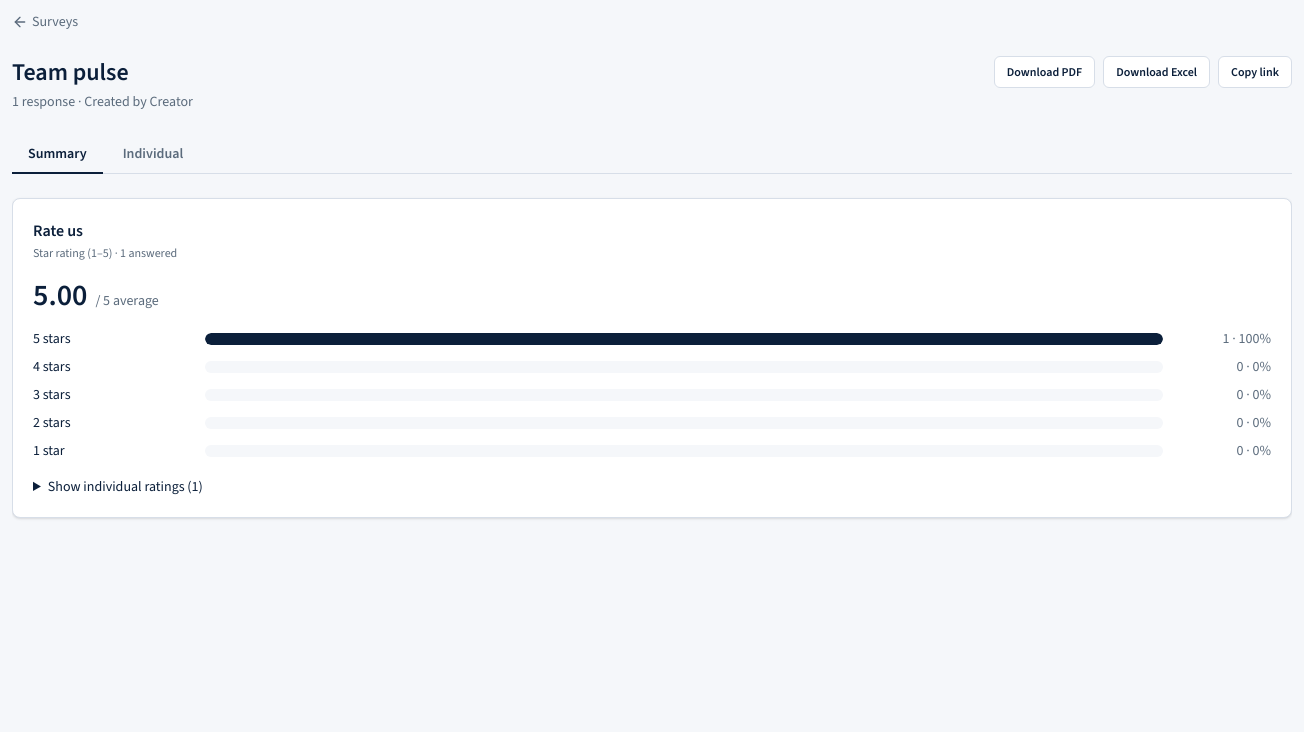
survey results actions › hides Edit and Delete response when the viewer can't edit
Click the tab "Individual".
click(153, 155)  # box [107,136,199,174]
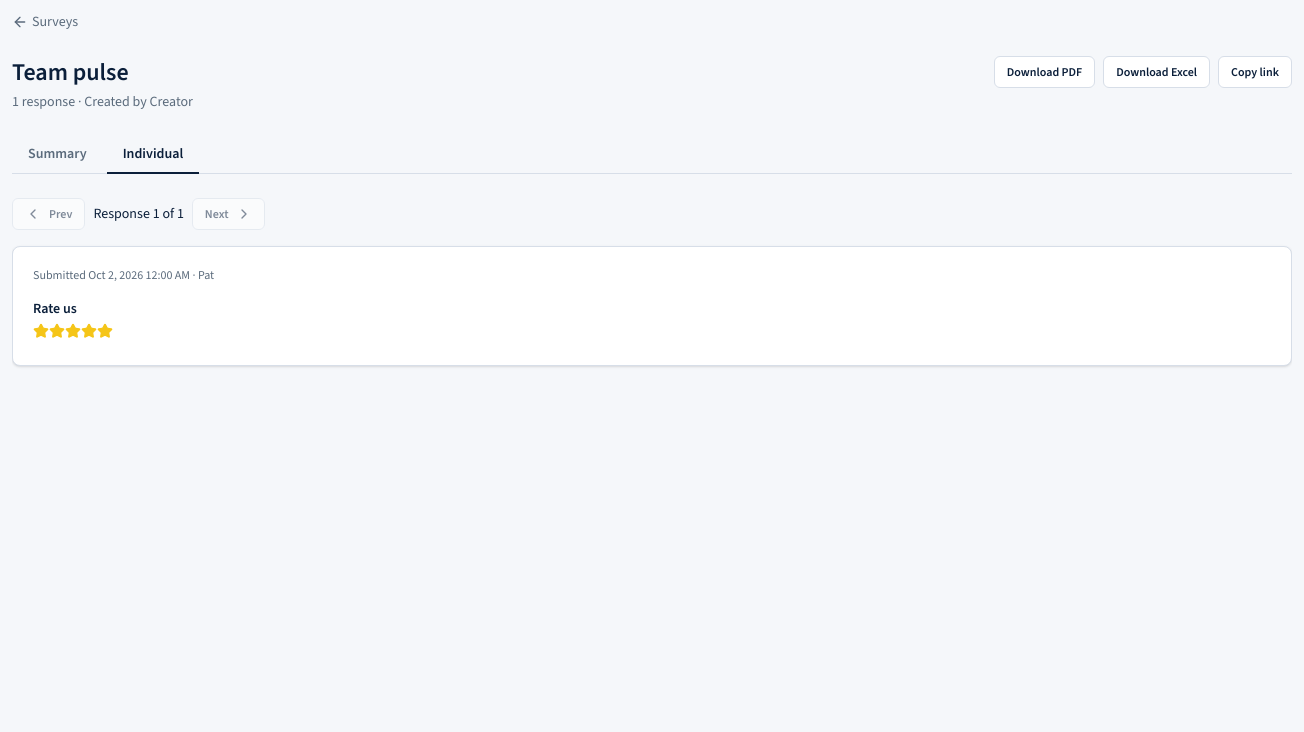
expect the text with test id "response-position" reads "Response 1 of 1": met, box [93,204,184,224]
